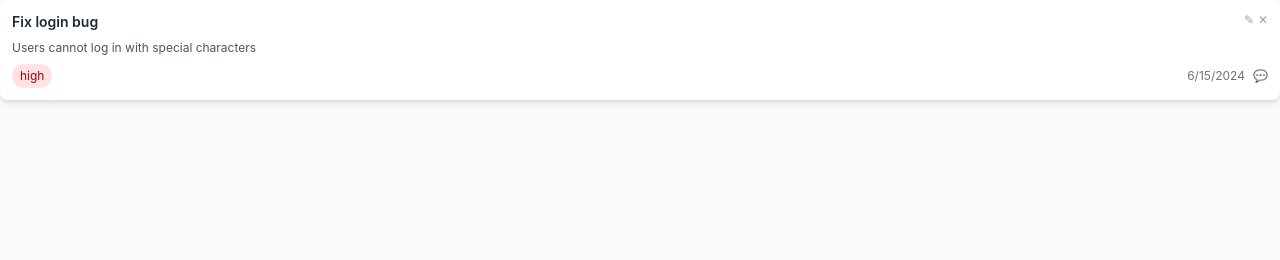
Scenario: TaskCard › comments toggle › shows comment section on toggle click
This screenshot has width=1280, height=260.
What coordinates should you click on to do the following:
click the button titled "Toggle comments"
I would click on:
 (1260, 76)
Its box is [1253, 68, 1268, 84].
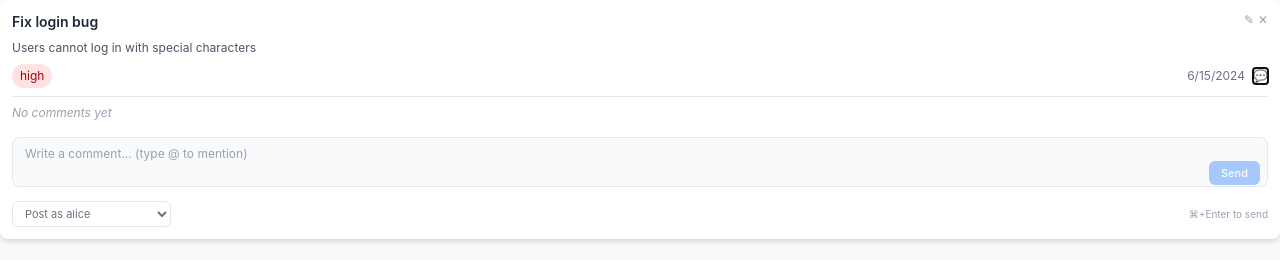
Now the text "No comments yet" is shown, box [12, 105, 112, 120]
